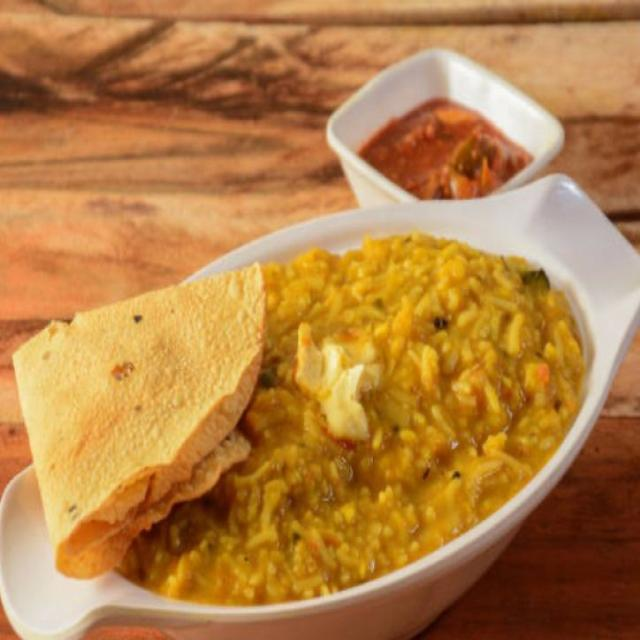PAPADAM: (13, 229, 281, 594)
PICKLE: (323, 58, 556, 206)
SAMBAR RICE: (136, 248, 621, 604)
